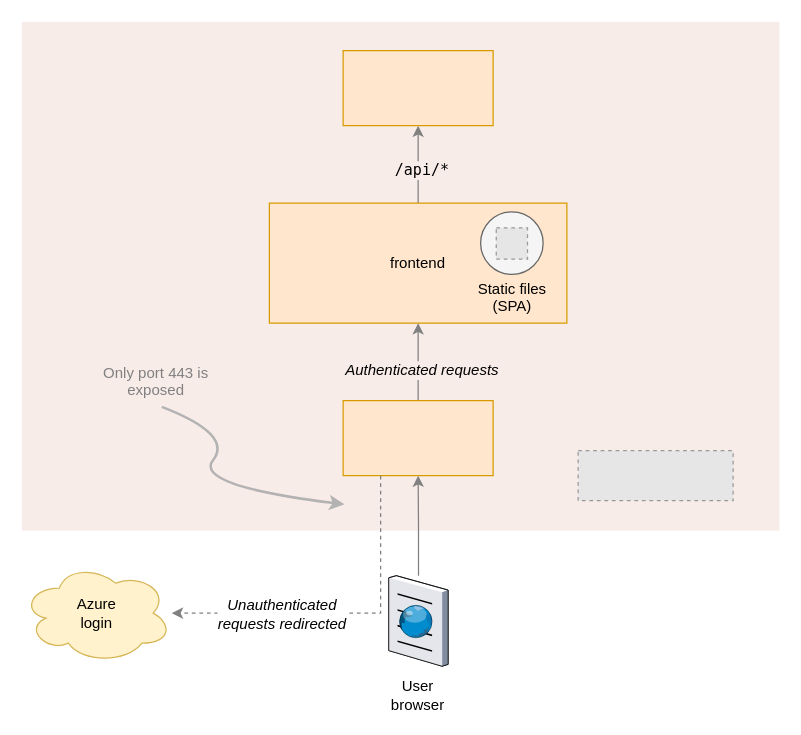
Some shapes in this 801 by 735 pixel diagram are drawn without their labels. Grey dashed boxes stand in for pictures. The shapes that lost their labels are listed below. From the top down, each one's centre as x and y in pixels, then its label:
At point (417, 87): "api".
At point (417, 437): "auth-proxy".
